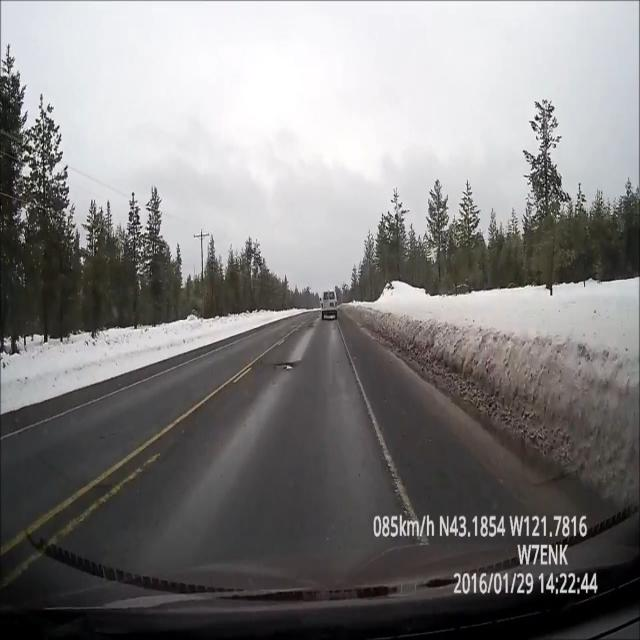Pothole: (265, 347, 305, 374)
